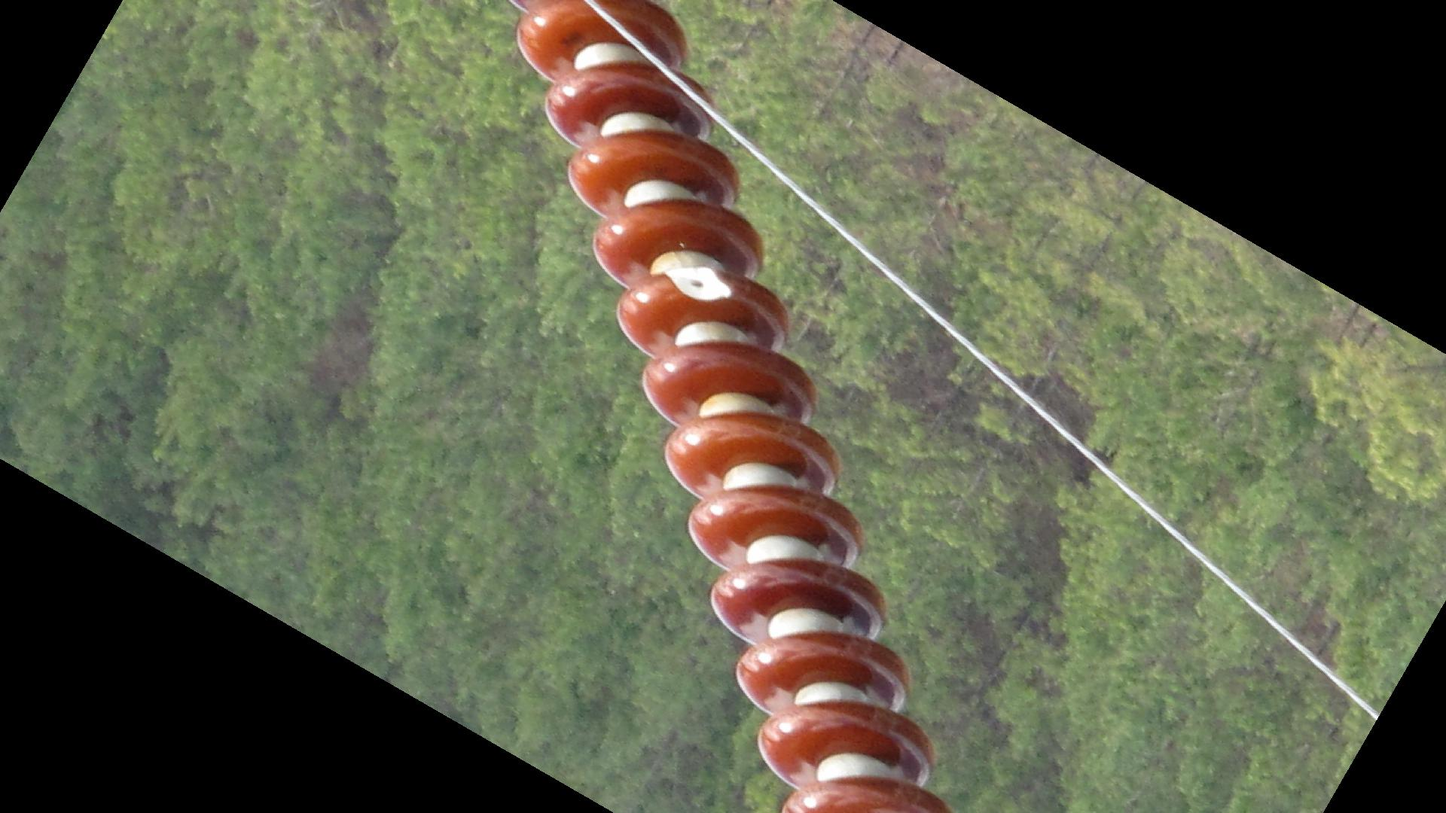insulator: (506, 1, 956, 813)
insulator_breakage: (654, 260, 745, 311)
